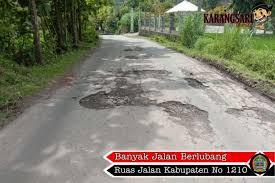Pothole: (80, 47, 275, 144)
